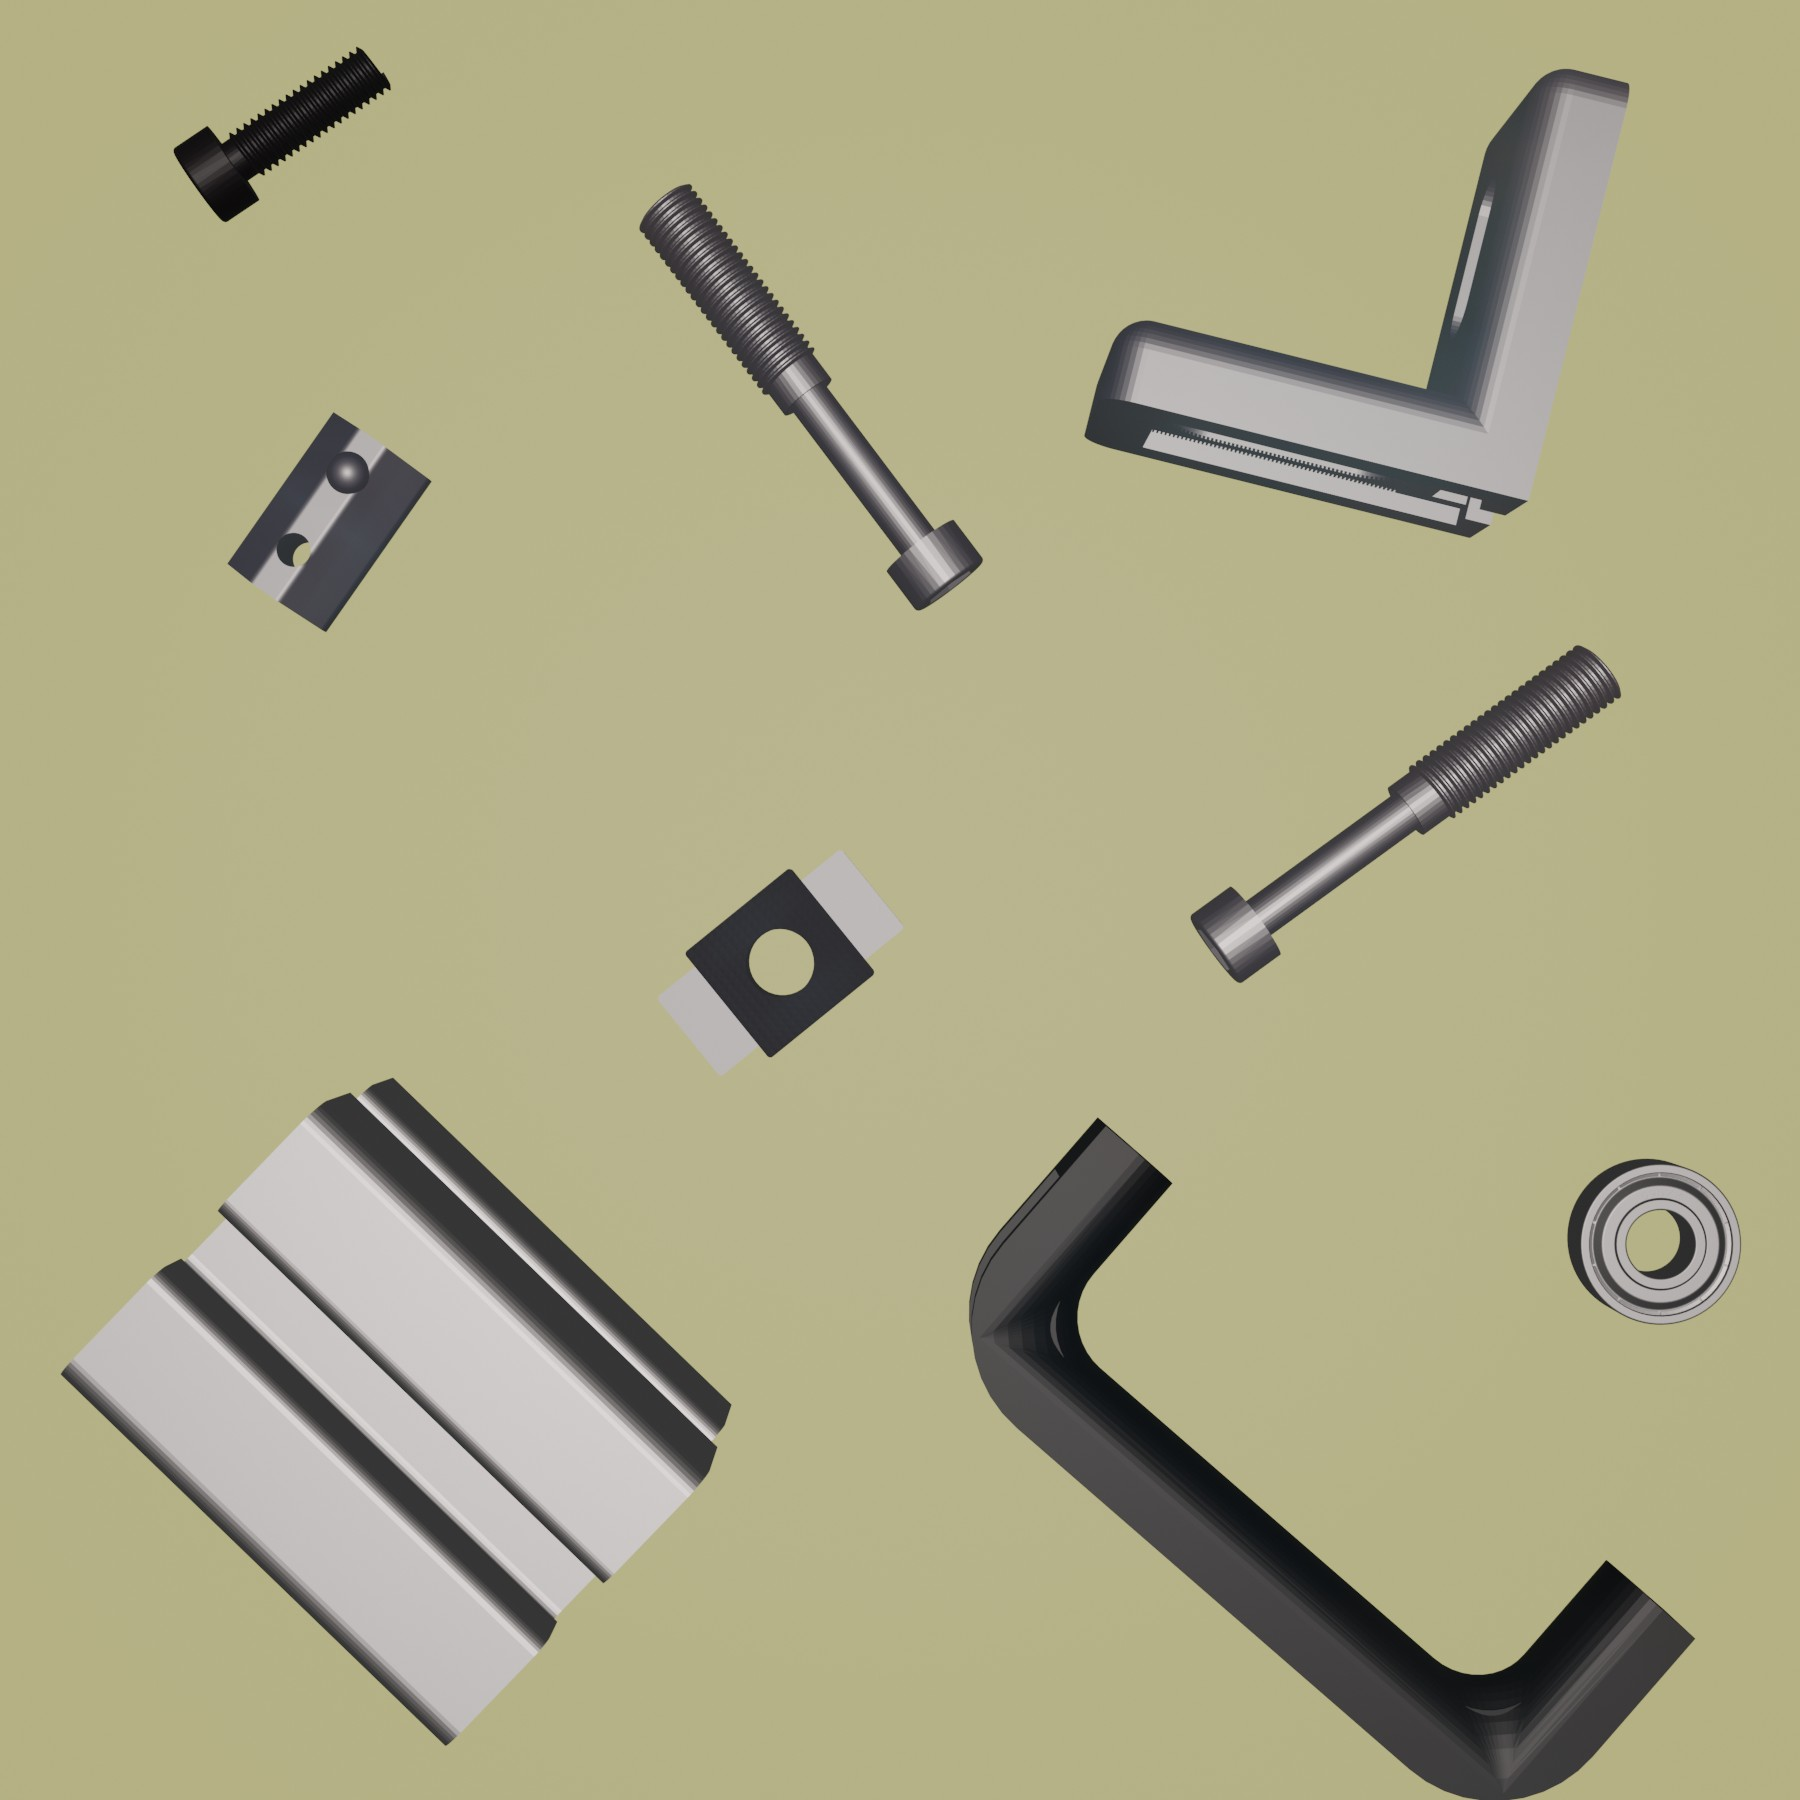Aluminium Extension: (58, 1075, 735, 1746)
Ball Bearing: (1566, 1154, 1742, 1329)
Multiwinkel: (1081, 66, 1630, 542)
Pull Handle: (968, 1119, 1699, 1800)
Shoulder Socket Head Cap Screw: (633, 181, 982, 612), (1185, 643, 1624, 986)
Socket Head Cap Screw: (170, 45, 392, 223)
T Nut Square: (648, 847, 905, 1081)
T Spring Nut: (224, 410, 430, 631)
